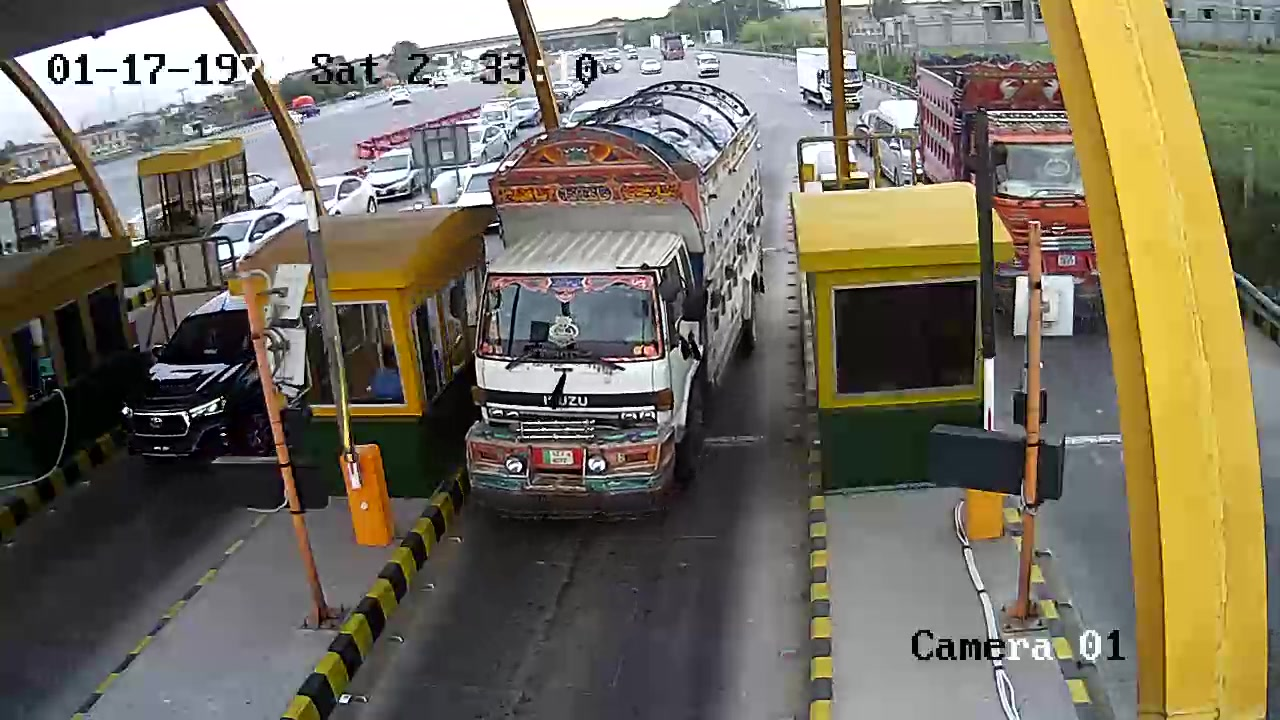F5: (452, 79, 759, 514)
